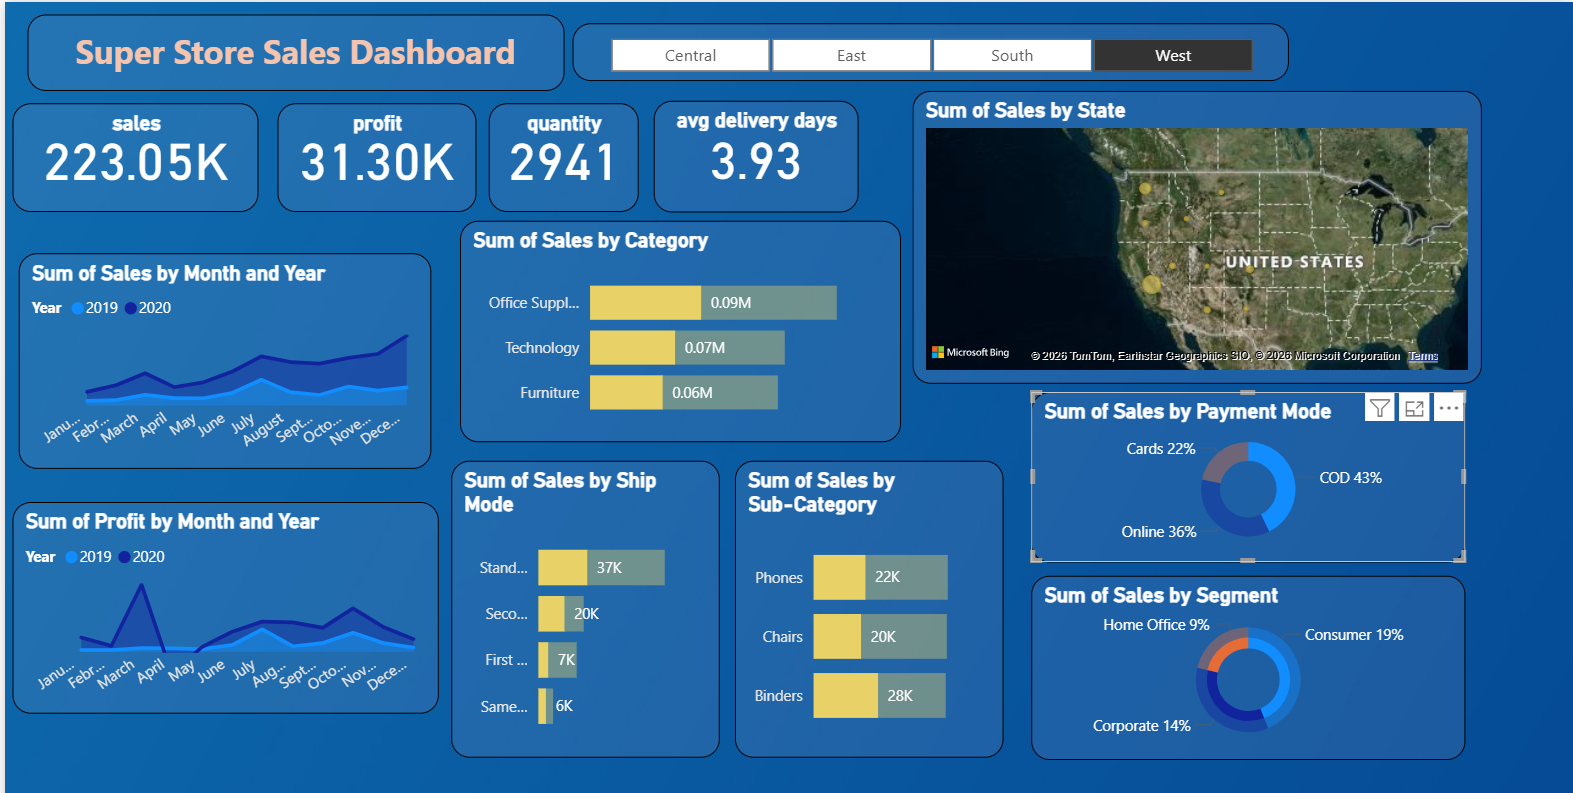

Layout of this report page (visuals, bound fields, positions):
{"tool":"powerbi","page":{"name":"Page 1","canvas":[1280,720],"ordinal":0},"visuals":[{"type":"clusteredBarChart","fields":{"Category":["SuperStore_Sales_Dataset.Category"],"Y":["Sum(SuperStore_Sales_Dataset.Sales)"]},"box":[371,179,360,181],"z":0},{"type":"clusteredBarChart","fields":{"Category":["SuperStore_Sales_Dataset.Sub-Category"],"Y":["Sum(SuperStore_Sales_Dataset.Sales)"]},"box":[596,374,219,242],"z":1000},{"type":"clusteredBarChart","fields":{"Category":["SuperStore_Sales_Dataset.Ship Mode"],"Y":["Sum(SuperStore_Sales_Dataset.Sales)"]},"box":[364,374,219,242],"z":2000},{"type":"stackedAreaChart","fields":{"Y":["Sum(SuperStore_Sales_Dataset.Sales)"],"Category":["SuperStore_Sales_Dataset.Order Date.Variation.Date Hierarchy.Month","SuperStore_Sales_Dataset.Order Date.Variation.Date Hierarchy.Day"],"Series":["SuperStore_Sales_Dataset.Order Date.Variation.Date Hierarchy.Year"]},"box":[11,205,337,176],"z":3000},{"type":"stackedAreaChart","fields":{"Category":["SuperStore_Sales_Dataset.Order Date.Variation.Date Hierarchy.Month","SuperStore_Sales_Dataset.Order Date.Variation.Date Hierarchy.Day"],"Series":["SuperStore_Sales_Dataset.Order Date.Variation.Date Hierarchy.Year"],"Y":["Sum(SuperStore_Sales_Dataset.Profit)"]},"box":[6,408,348,173],"z":4000},{"type":"map","fields":{"Category":["SuperStore_Sales_Dataset.State"],"Size":["Sum(SuperStore_Sales_Dataset.Sales)"]},"box":[741,72,465,239],"z":5000},{"type":"donutChart","fields":{"Category":["SuperStore_Sales_Dataset.Segment"],"Y":["Sum(SuperStore_Sales_Dataset.Sales)"]},"box":[838,468,354,150],"z":6000},{"type":"donutChart","fields":{"Category":["SuperStore_Sales_Dataset.Payment Mode"],"Y":["Sum(SuperStore_Sales_Dataset.Sales)"]},"box":[838,318,354,139],"z":7000},{"type":"slicer","fields":{"Values":["SuperStore_Sales_Dataset.Region"]},"box":[463,17,585,47],"z":8000},{"type":"textbox","box":[18,10,438,62],"z":9000},{"type":"card","title":"sales","fields":{"Values":["Sum(SuperStore_Sales_Dataset.Sales)"]},"box":[6,83,201,89],"z":10000},{"type":"card","title":"profit","fields":{"Values":["Sum(SuperStore_Sales_Dataset.Profit)"]},"box":[222,83,162,89],"z":11000},{"type":"card","title":"quantity","fields":{"Values":["Sum(SuperStore_Sales_Dataset.Quantity)"]},"box":[395,83,122,89],"z":12000},{"type":"card","title":"avg delivery days","fields":{"Values":["Avg(SuperStore_Sales_Dataset.avgdelivery)"]},"box":[530,81,167,91],"z":13000}]}

Visuals, with their boxes on the page's 1280x720 design canvas (x1, y1, x2, y2). These are canvas units, not pixel positions in the 1573x793 screenshot, which may show the page scaled, cropped or inside an application window:
clusteredBarChart - SuperStore_Sales_Dataset.Category x Sum(SuperStore_Sales_Dataset.Sales): (left=371, top=179, right=731, bottom=360)
clusteredBarChart - SuperStore_Sales_Dataset.Sub-Category x Sum(SuperStore_Sales_Dataset.Sales): (left=596, top=374, right=815, bottom=616)
clusteredBarChart - SuperStore_Sales_Dataset.Ship Mode x Sum(SuperStore_Sales_Dataset.Sales): (left=364, top=374, right=583, bottom=616)
stackedAreaChart - Sum(SuperStore_Sales_Dataset.Sales) x SuperStore_Sales_Dataset.Order Date.Variation.Date Hierarchy.Month: (left=11, top=205, right=348, bottom=381)
stackedAreaChart - SuperStore_Sales_Dataset.Order Date.Variation.Date Hierarchy.Month x SuperStore_Sales_Dataset.Order Date.Variation.Date Hierarchy.Day: (left=6, top=408, right=354, bottom=581)
map - SuperStore_Sales_Dataset.State x Sum(SuperStore_Sales_Dataset.Sales): (left=741, top=72, right=1206, bottom=311)
donutChart - SuperStore_Sales_Dataset.Segment x Sum(SuperStore_Sales_Dataset.Sales): (left=838, top=468, right=1192, bottom=618)
donutChart - SuperStore_Sales_Dataset.Payment Mode x Sum(SuperStore_Sales_Dataset.Sales): (left=838, top=318, right=1192, bottom=457)
slicer - SuperStore_Sales_Dataset.Region: (left=463, top=17, right=1048, bottom=64)
textbox: (left=18, top=10, right=456, bottom=72)
"sales" card: (left=6, top=83, right=207, bottom=172)
"profit" card: (left=222, top=83, right=384, bottom=172)
"quantity" card: (left=395, top=83, right=517, bottom=172)
"avg delivery days" card: (left=530, top=81, right=697, bottom=172)
